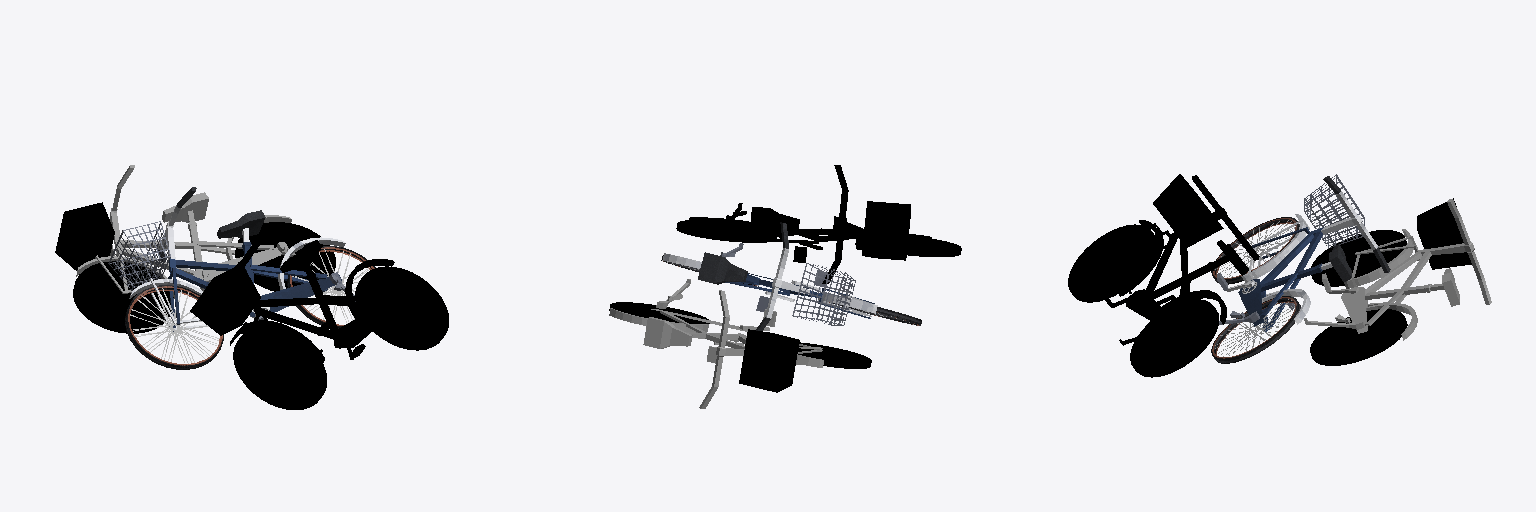
3 renders of one model, left to right at view 1: azimuth 30°, elevation 25°; view 2: azimuth 150°, elevation 25°; view 3: azimuth 270°, elevation 25°, orthographic.
Visible parts, largest first — view 1: Circle.007, Circle.005, Circle.011, Cube.012, Cube.010, Cube.017, Cube.001_Cube.002, Circle, Cube.019, Circle.009, Cube.003_Cube.004, Circle.002 (+5 smaller); view 2: Cube.017, Cube.010, Cube.019, Cube.012, Cube.001_Cube.002, Cube.003_Cube.004, Cube.016, Cube.004_Cube.005, Cube.009, Circle.011, Circle.005, Circle.009 (+1 smaller); view 3: Circle.007, Circle.005, Cube.012, Cube.019, Circle.009, Cube.001_Cube.002, Cube.010, Circle.011, Cube.017, Circle.002, Cube.003_Cube.004, Circle (+3 smaller).
Boxes of the visible parts, x1=… form: Circle.007: x1=233, y1=326, x2=326, y2=409; Circle.005: x1=355, y1=266, x2=448, y2=350; Circle.011: x1=73, y1=261, x2=173, y2=333; Cube.012: x1=235, y1=226, x2=402, y2=364; Cube.010: x1=190, y1=264, x2=260, y2=335; Cube.017: x1=55, y1=202, x2=114, y2=270; Cube.001_Cube.002: x1=158, y1=187, x2=341, y2=331; Circle: x1=125, y1=285, x2=223, y2=369; Cube.019: x1=110, y1=165, x2=281, y2=293; Circle.009: x1=235, y1=222, x2=335, y2=291; Cube.003_Cube.004: x1=108, y1=221, x2=170, y2=290; Circle.002: x1=287, y1=246, x2=375, y2=328; Cube.017: x1=739, y1=329, x2=799, y2=392; Cube.010: x1=862, y1=201, x2=910, y2=260; Cube.019: x1=651, y1=290, x2=822, y2=408; Cube.012: x1=790, y1=165, x2=909, y2=283; Cube.001_Cube.002: x1=746, y1=222, x2=874, y2=330; Cube.003_Cube.004: x1=792, y1=263, x2=855, y2=325; Cube.016: x1=643, y1=317, x2=692, y2=348; Cube.004_Cube.005: x1=698, y1=252, x2=747, y2=284; Cube.009: x1=749, y1=207, x2=799, y2=236; Circle.011: x1=798, y1=342, x2=871, y2=368; Circle.005: x1=676, y1=220, x2=776, y2=242; Circle.009: x1=609, y1=302, x2=709, y2=323; Circle.007: x1=1068, y1=224, x2=1155, y2=302; Circle.005: x1=1130, y1=299, x2=1218, y2=377; Cube.012: x1=1108, y1=175, x2=1259, y2=334; Cube.019: x1=1341, y1=199, x2=1491, y2=333; Circle.009: x1=1310, y1=309, x2=1407, y2=365; Cube.001_Cube.002: x1=1238, y1=176, x2=1390, y2=326; Cube.010: x1=1153, y1=174, x2=1223, y2=247; Circle.011: x1=1311, y1=230, x2=1406, y2=286; Cube.017: x1=1417, y1=198, x2=1471, y2=269; Circle.002: x1=1211, y1=296, x2=1300, y2=363; Cube.003_Cube.004: x1=1304, y1=174, x2=1364, y2=248; Circle: x1=1211, y1=217, x2=1299, y2=284.
Bounding box in the file's own units: 2.04 × 0.9605 × 2.73.
5 materials, 1 textured.